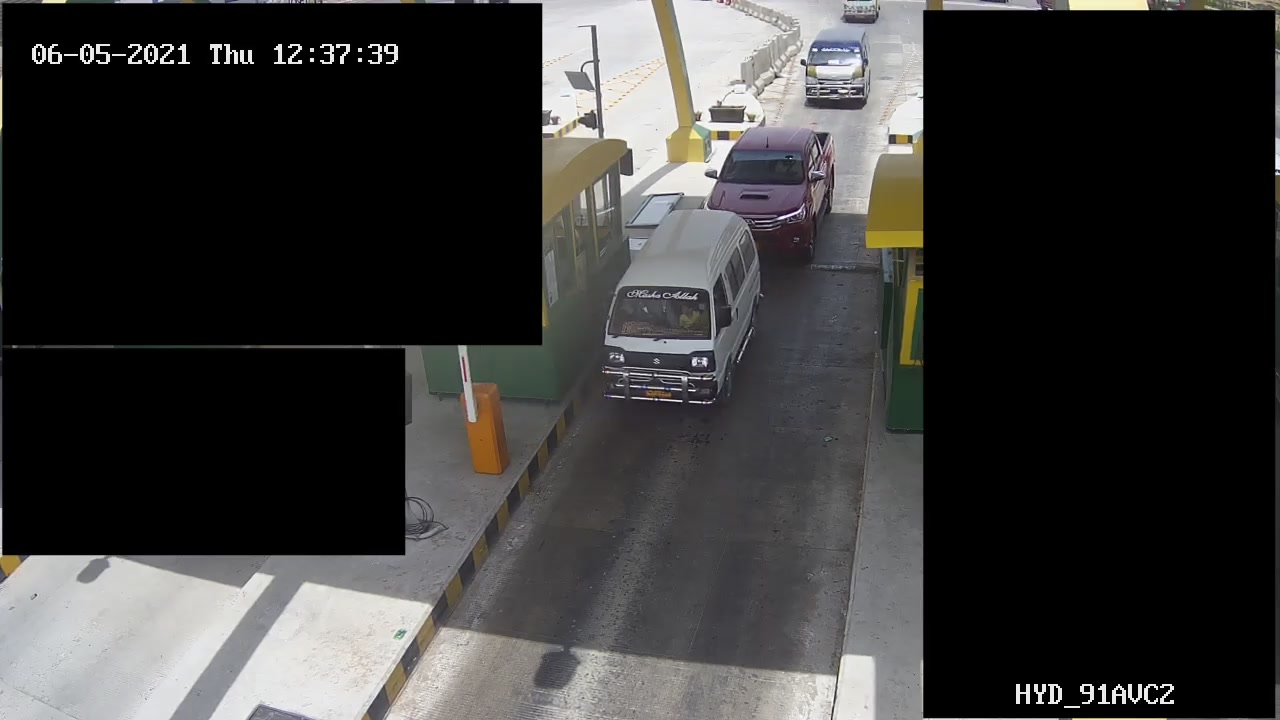F1: (592, 209, 764, 411), (690, 113, 840, 264)
